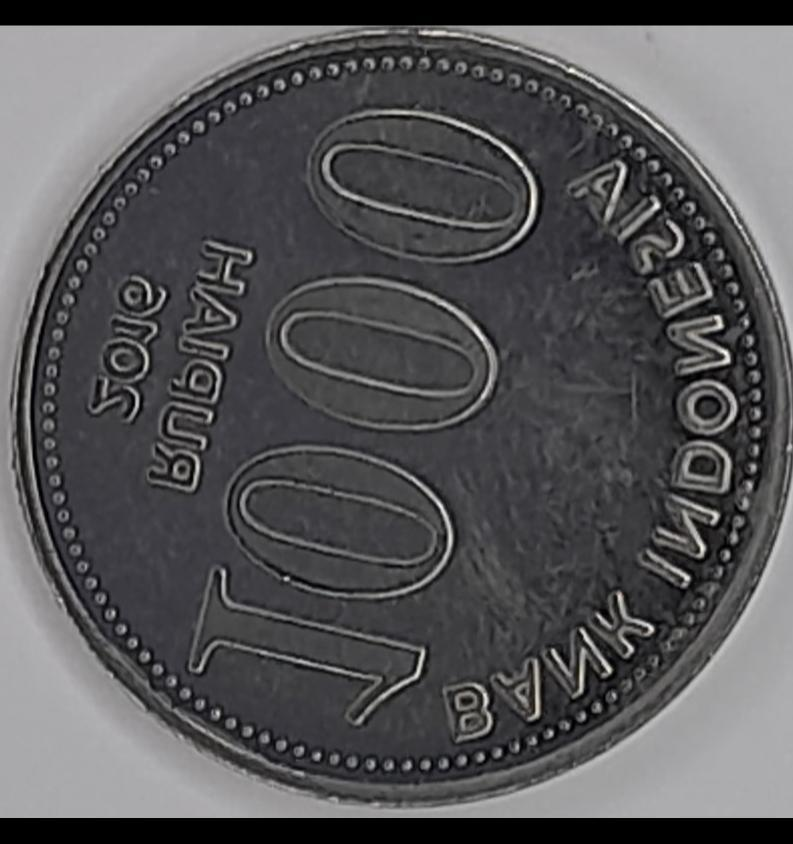coin_1000_e2016: (13, 17, 782, 844)
